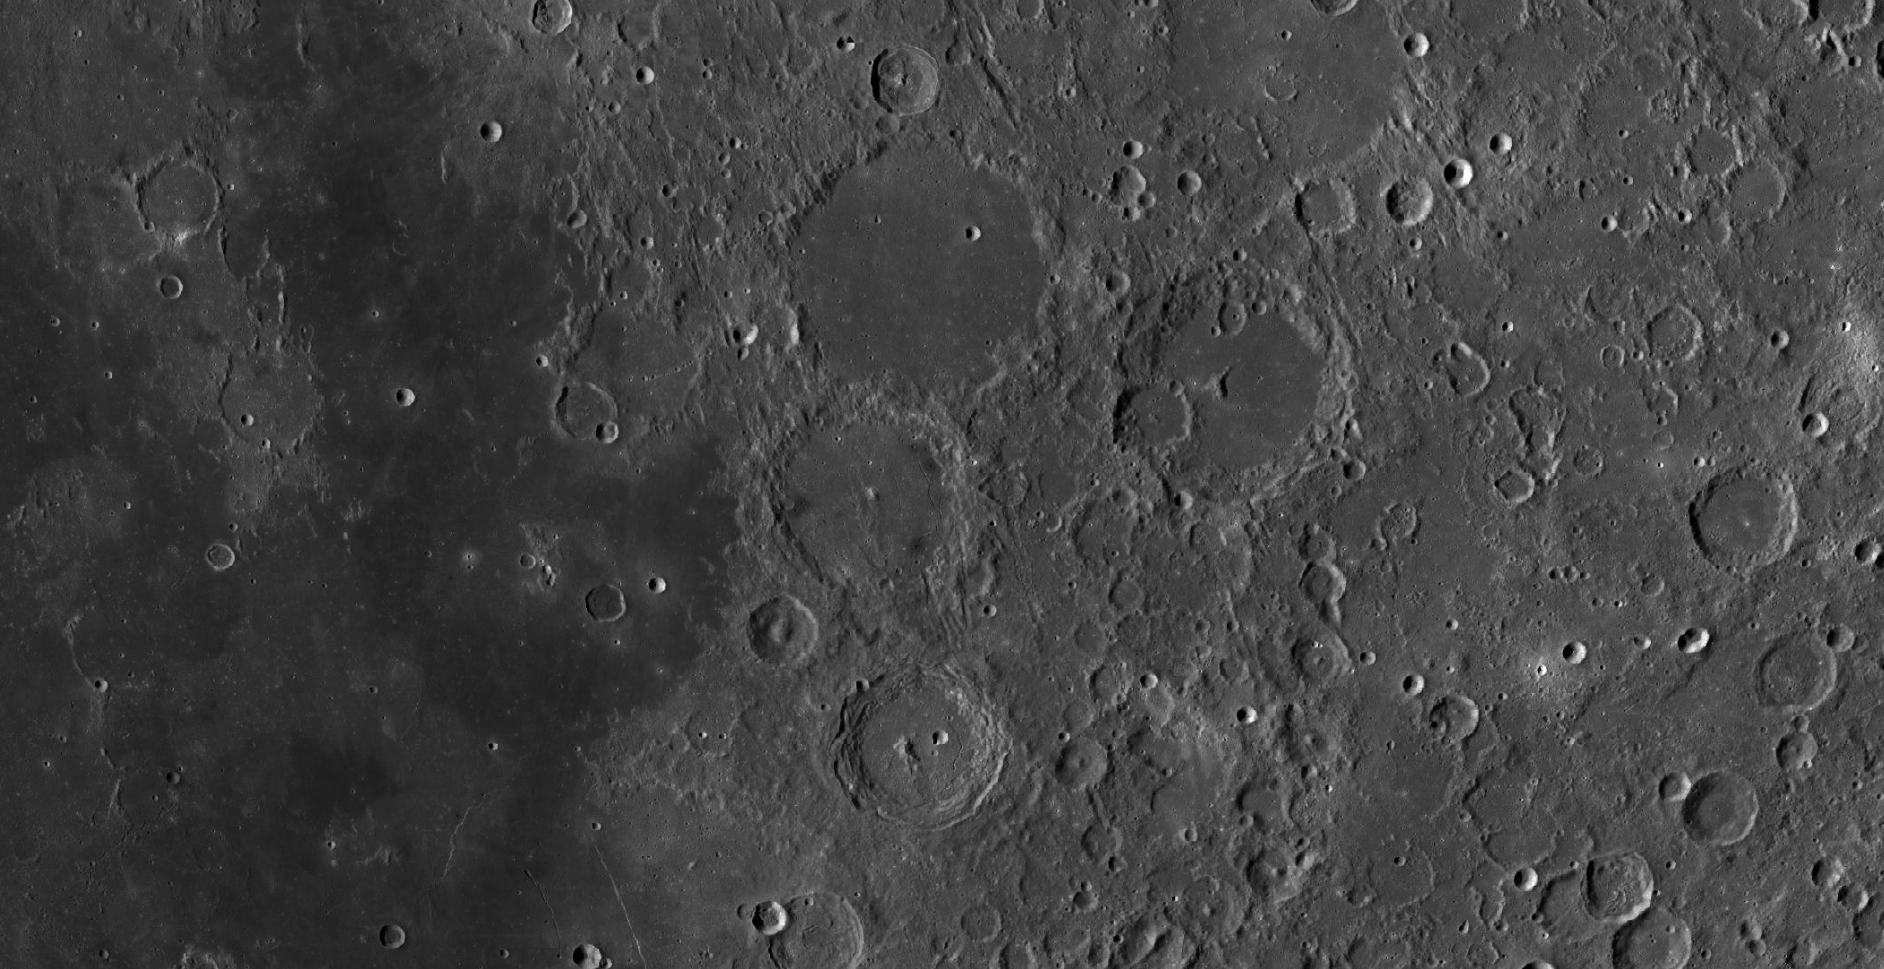crater: (728, 114, 1103, 417), (803, 658, 1034, 855), (1657, 444, 1812, 596), (114, 132, 250, 253), (1680, 766, 1772, 864), (1630, 287, 1718, 384), (191, 535, 261, 601), (577, 572, 637, 638), (357, 903, 431, 957), (950, 894, 1009, 954), (1487, 465, 1549, 512), (142, 264, 195, 318)
